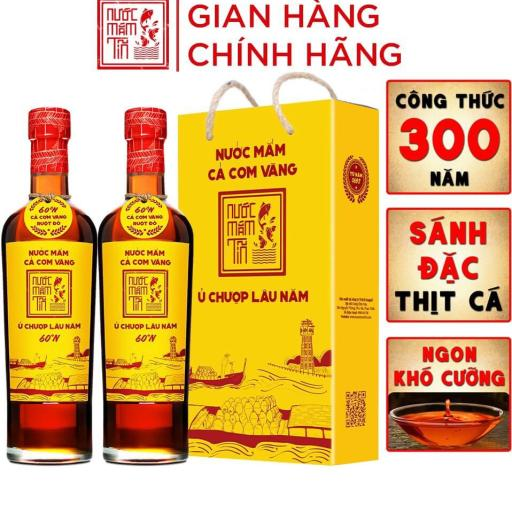bottle: (2, 106, 96, 463), (99, 107, 193, 463)
